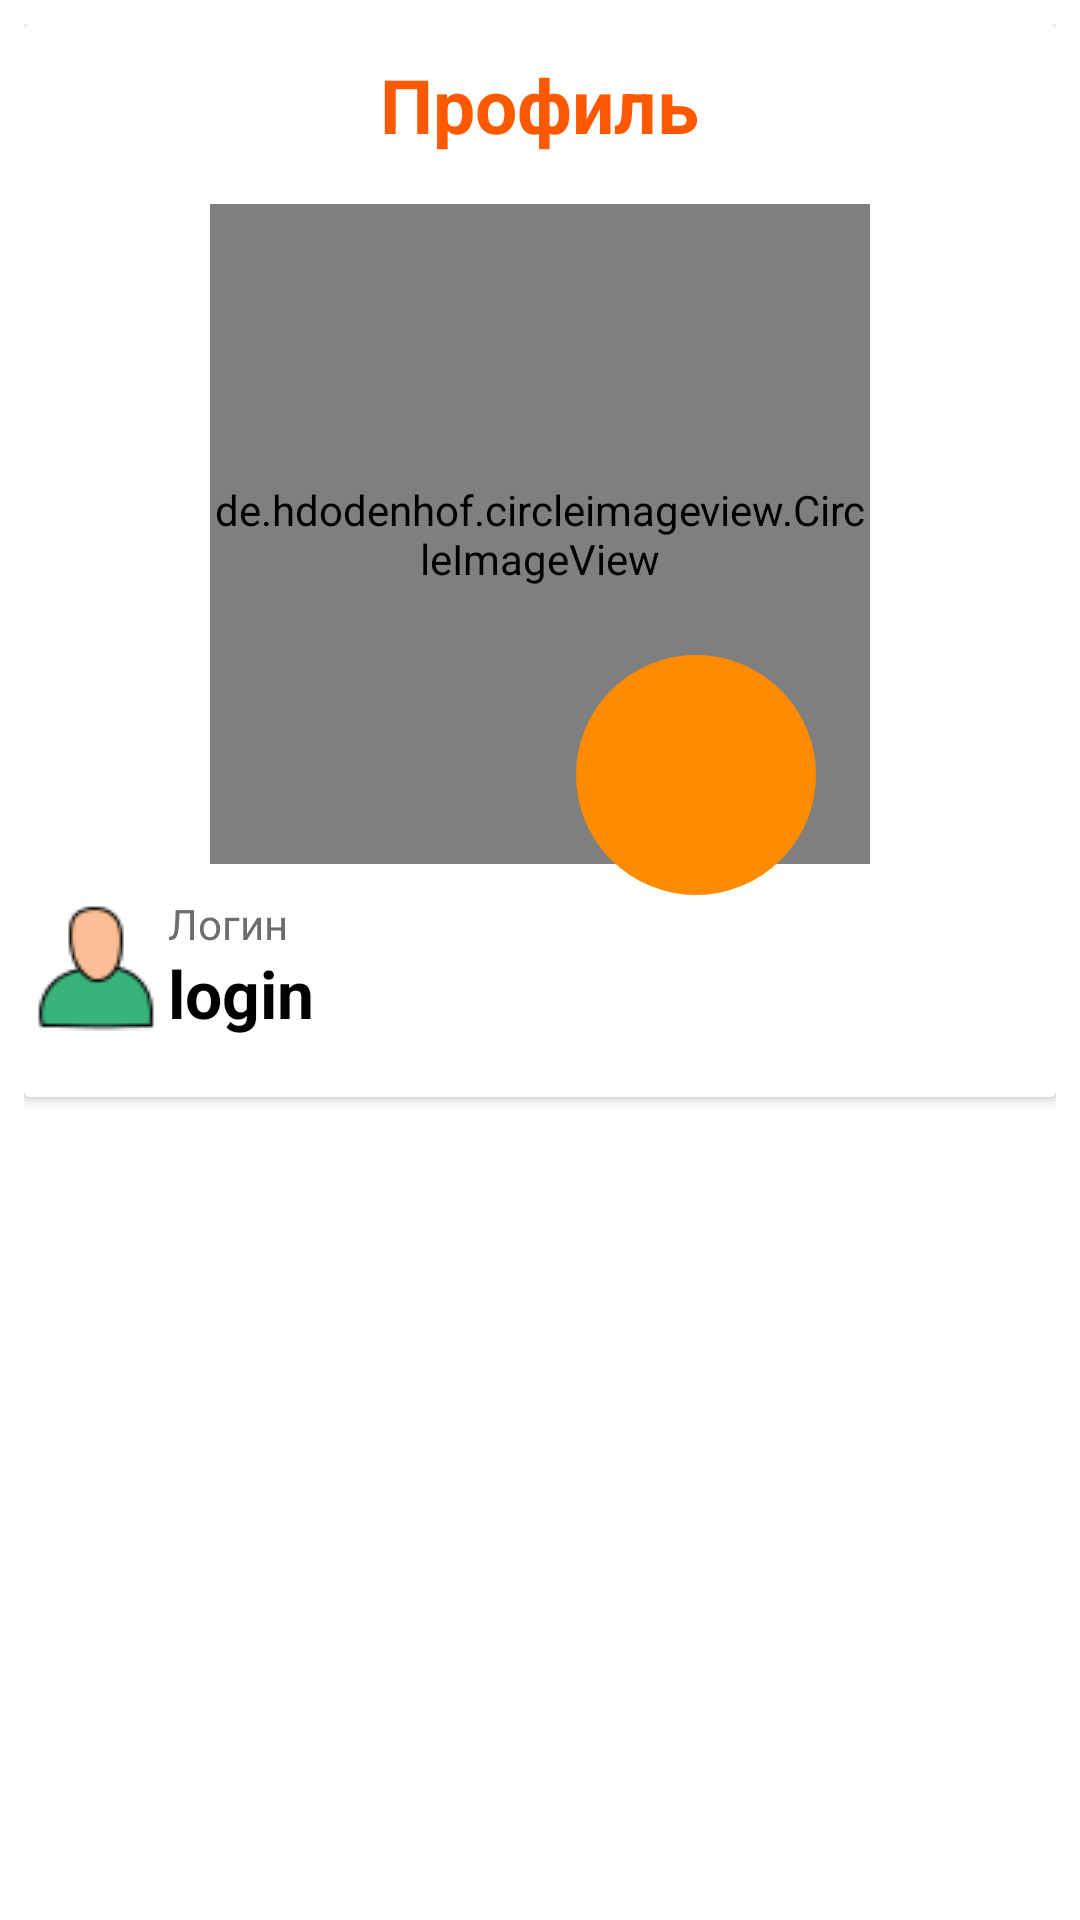

Icon click points for this 1080x1920 phone screenshot, format (x=x, y=y):
customer: (x=96, y=968)
